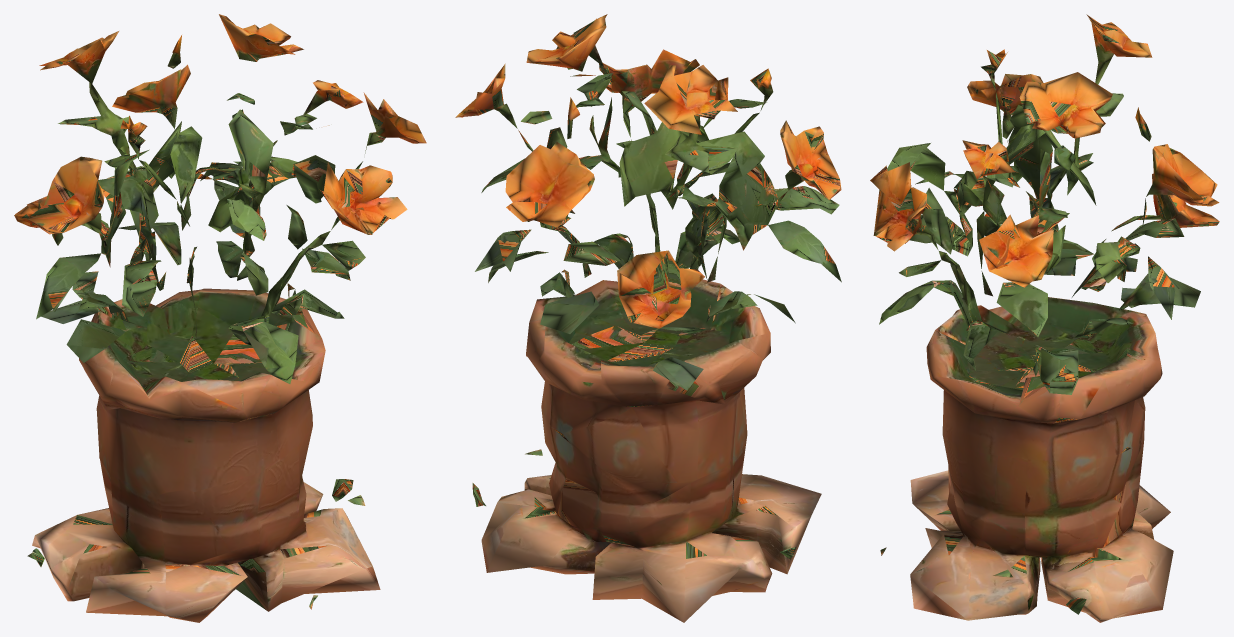
The model's file is flower-pot.glb.
The picture shows the model from 3 angles, left to right: view 1: azimuth 30°, elevation 25°; view 2: azimuth 150°, elevation 25°; view 3: azimuth 270°, elevation 25°; orthographic projection. The views are drawn at different scales.
Size of the model in its own units: 1.46 by 1.97 by 1.22.
Materials: 1 (1 with a texture image).
